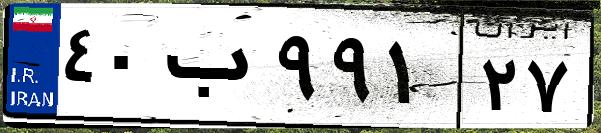0: (110, 28, 158, 98)
1: (385, 28, 445, 110)
2: (475, 38, 525, 113)
4: (57, 26, 110, 100)
7: (525, 38, 570, 115)
9: (270, 28, 330, 110), (330, 28, 385, 110)
ب: (158, 20, 270, 120)
